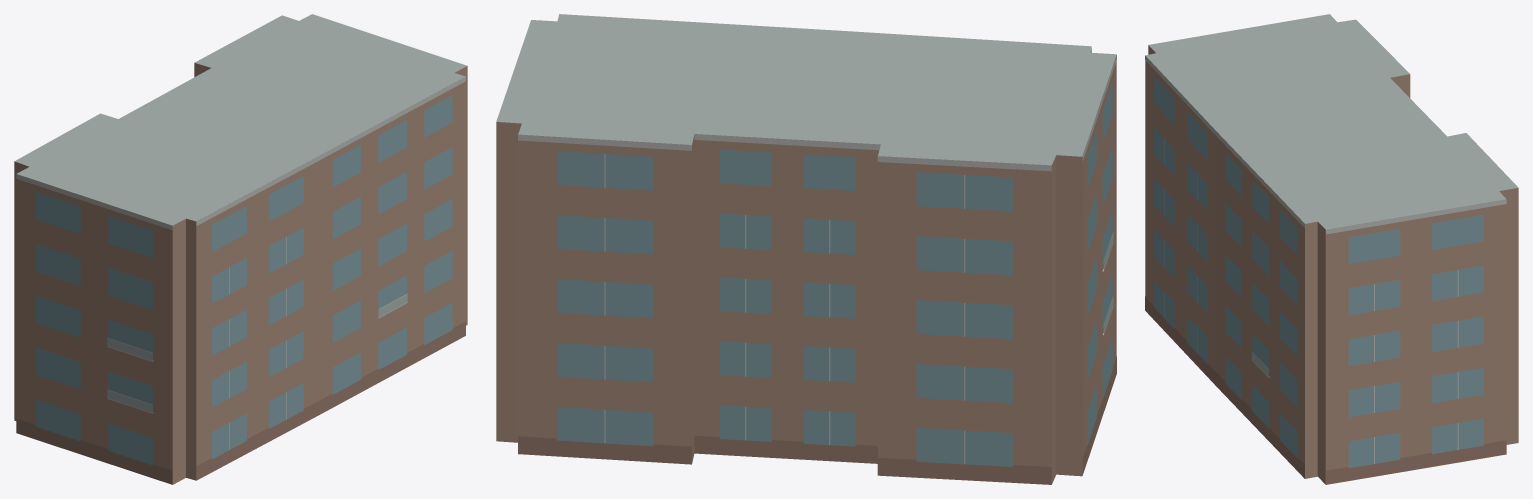
The model's file is survey-upis-32725075.glb.
3 renders of one model, left to right at view 1: azimuth 30°, elevation 25°; view 2: azimuth 150°, elevation 25°; view 3: azimuth 270°, elevation 25°, orthographic. The views are drawn at different scales.
Parts seen in each view (by area): view 1: survey-upis-32725075.tmp; view 2: survey-upis-32725075.tmp; view 3: survey-upis-32725075.tmp.
Boxes of the visible parts, bbox=[...] form: survey-upis-32725075.tmp: bbox=[14, 14, 467, 484]; survey-upis-32725075.tmp: bbox=[496, 14, 1116, 484]; survey-upis-32725075.tmp: bbox=[1145, 14, 1518, 484].
Size of the model in its own units: 23.95 by 13.2 by 17.53.
